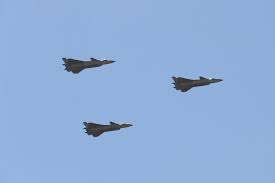fighter: (80, 116, 137, 140), (168, 72, 227, 94), (61, 53, 117, 76)
